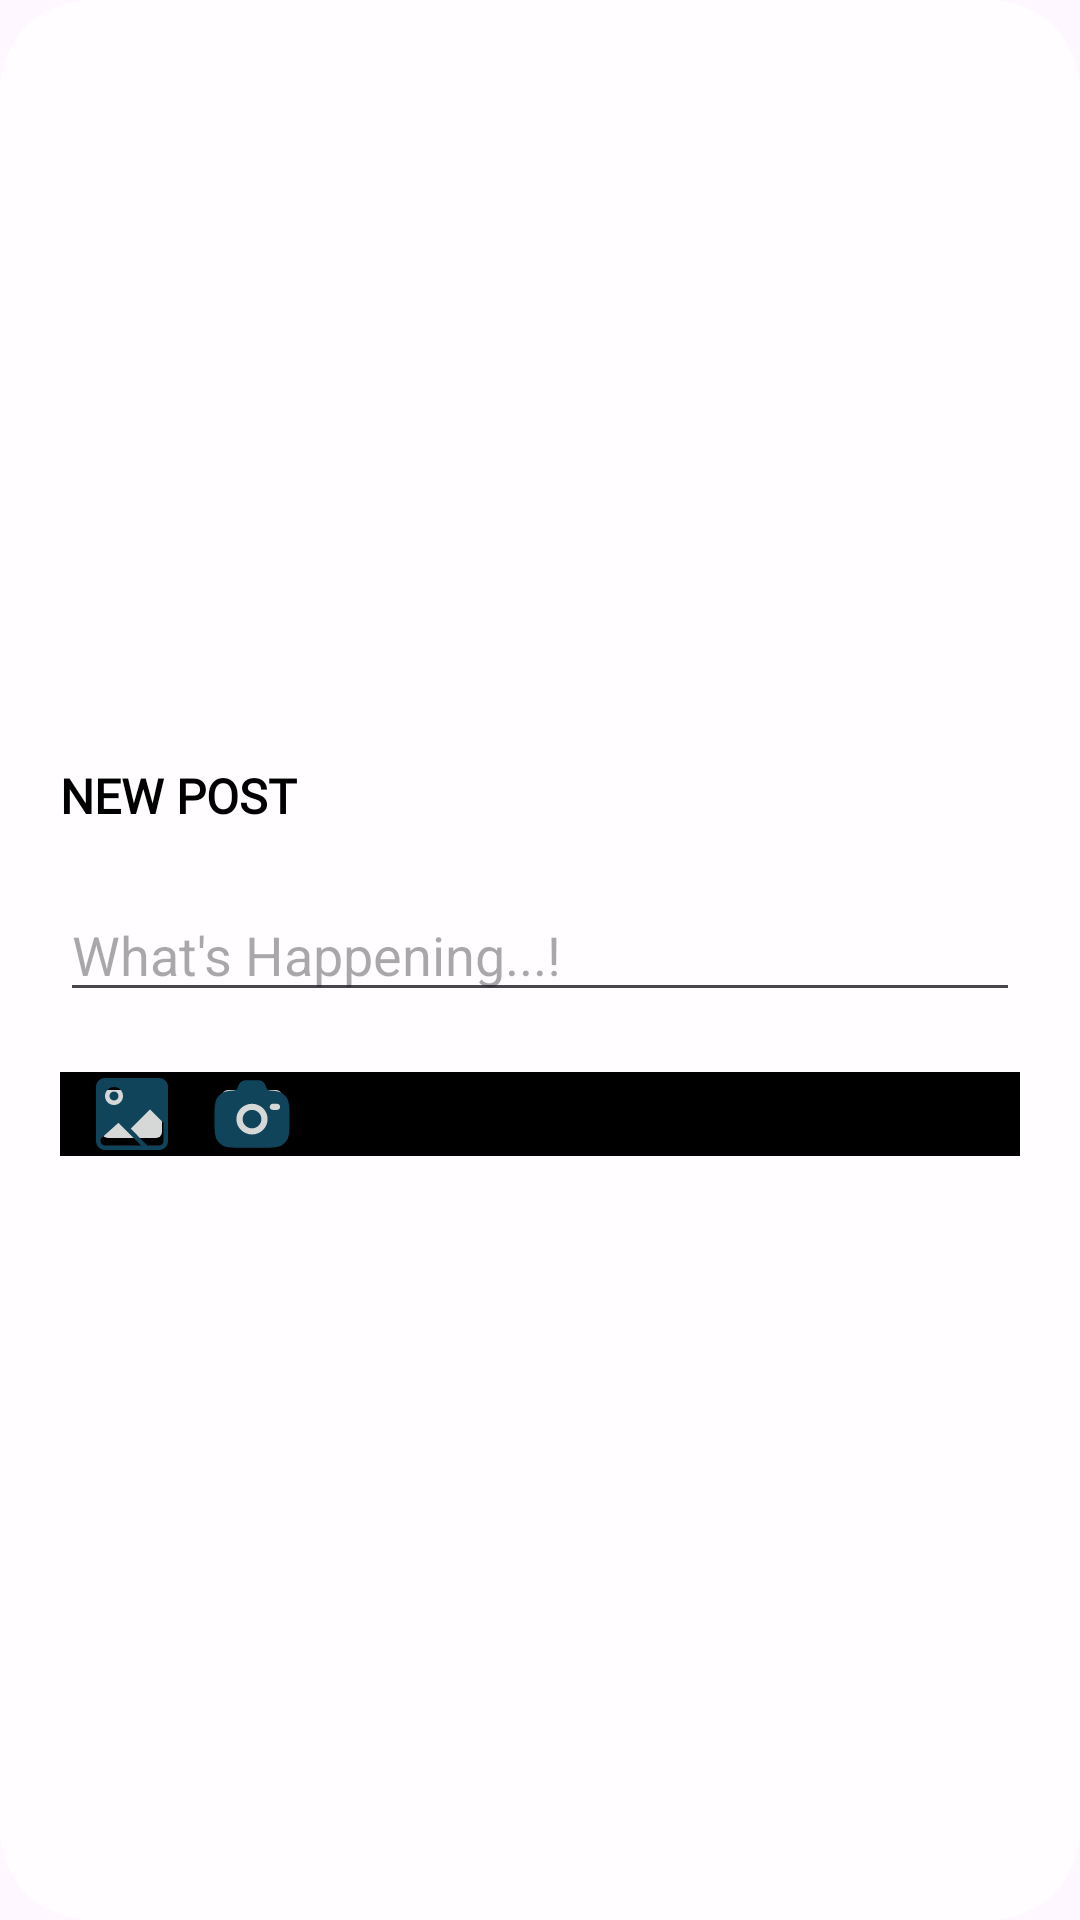

Icon bounding boxes for this 1080px x 1920px phone screenshot, format (x1, y1, x2, y2):
camera: (214, 1080, 290, 1148)
upload Image Button: (96, 1078, 168, 1150)
